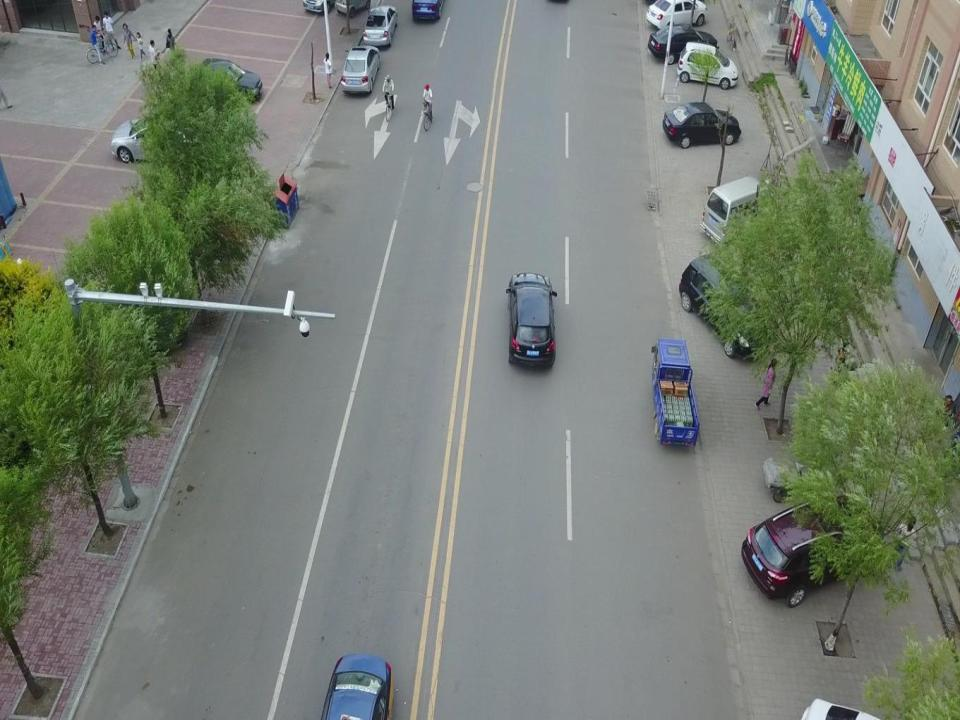car: (742, 494, 878, 600), (111, 111, 218, 164), (320, 653, 394, 720), (507, 272, 558, 367), (663, 101, 740, 145), (197, 55, 263, 102), (678, 40, 738, 88), (648, 24, 719, 61), (342, 44, 380, 93), (645, 0, 707, 26), (363, 4, 397, 47), (410, 0, 445, 22)
truck: (652, 338, 698, 448)
van: (680, 253, 768, 359), (702, 176, 781, 245), (339, 0, 373, 16)
